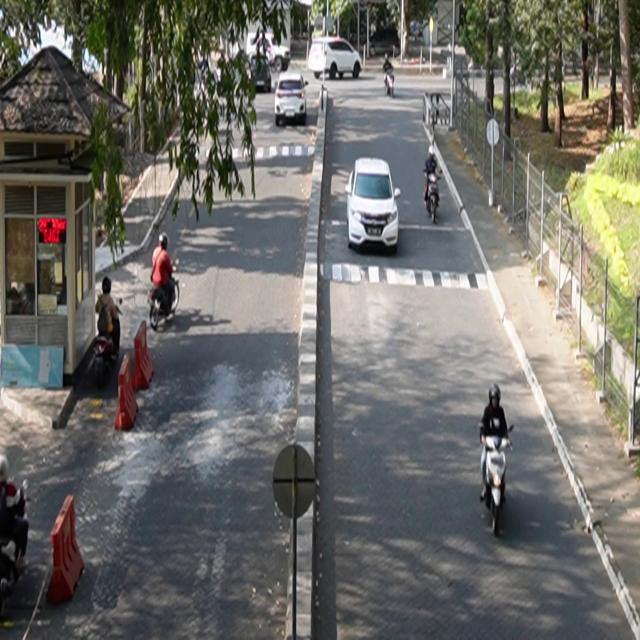car: (346, 157, 402, 253), (275, 73, 310, 127)
